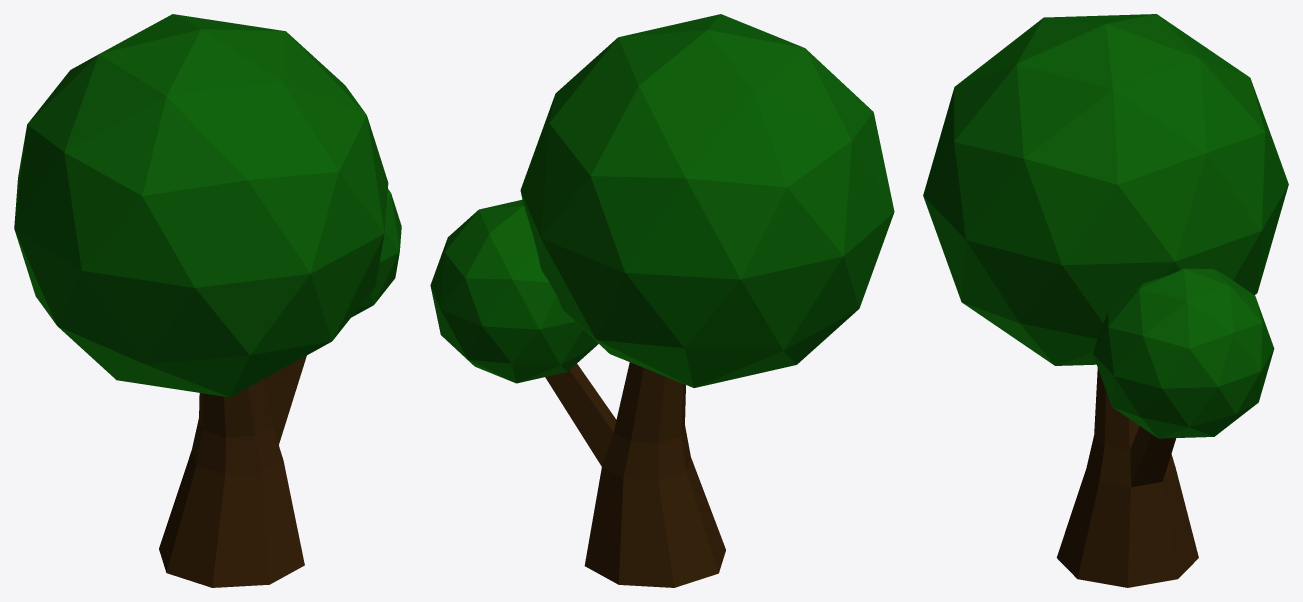
File: Tree.fbx
The picture shows the model from 3 angles, left to right: view 1: azimuth 30°, elevation 25°; view 2: azimuth 150°, elevation 25°; view 3: azimuth 270°, elevation 25°; orthographic projection. The views are drawn at different scales.
Visible parts, largest first — view 1: Tree; view 2: Tree; view 3: Tree.
Boxes of the visible parts, x1,y1,x2,y2 form: Tree: [14, 14, 401, 587]; Tree: [430, 14, 894, 587]; Tree: [923, 14, 1288, 587].
Size of the model in its own units: 4539 by 6017 by 3876.
